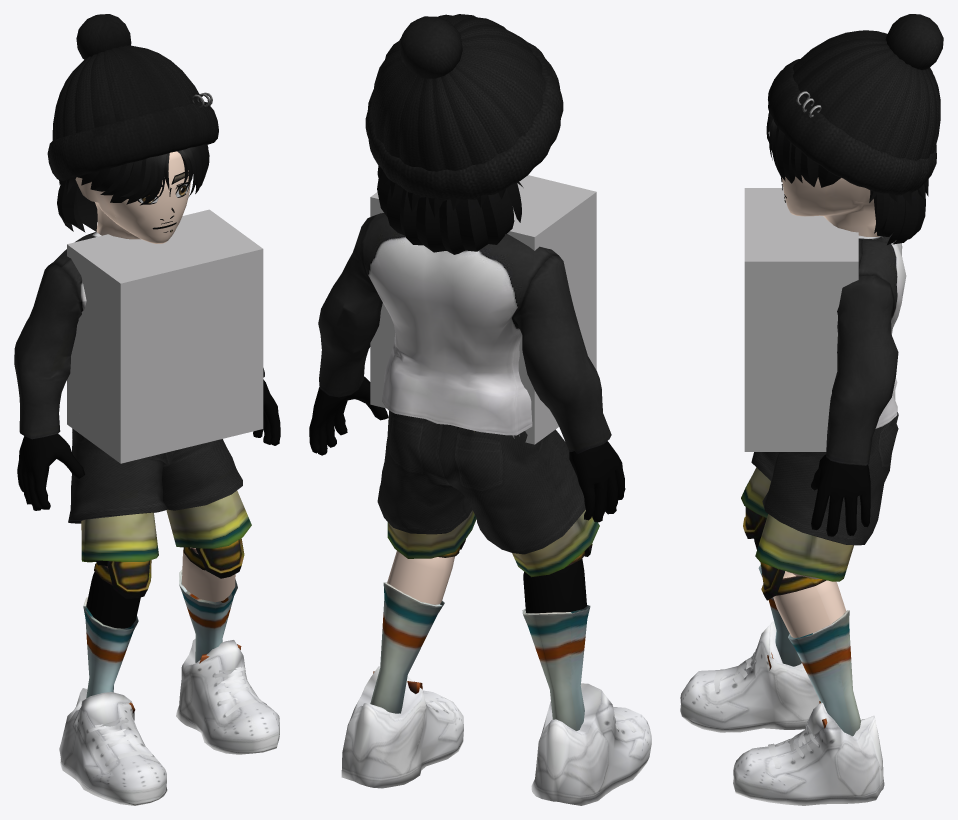
The picture shows the model from 3 angles, left to right: view 1: azimuth 30°, elevation 25°; view 2: azimuth 150°, elevation 25°; view 3: azimuth 270°, elevation 25°; orthographic projection. The views are drawn at different scales.
Parts seen in each view (by area): view 1: UpperTorso3, acc_Beanie, acc_Shorts_Bermuda_Black_9174391966, acc_Shoes_Sneakers_2_White_Right, RightUpperArm2, acc_Shoes_Sneakers_2_White_Left, acc_Hair, RightUpperLeg, RightLowerLeg, Head, LeftUpperLeg, LeftLowerLeg (+3 smaller); view 2: UpperTorso2, acc_Beanie, acc_Shorts_Bermuda_Black_9174391966, UpperTorso3, RightUpperArm2, acc_Shoes_Sneakers_2_White_Right, acc_Shoes_Sneakers_2_White_Left, RightLowerLeg, LeftLowerLeg, acc_Hair, LeftUpperArm2, RightHand (+3 smaller); view 3: UpperTorso3, acc_Beanie, acc_Shoes_Sneakers_2_White_Left, acc_Shoes_Sneakers_2_White_Right, LeftUpperArm2, LeftLowerLeg, acc_Shorts_Bermuda_Black_9174391966, LeftUpperLeg, acc_Hair, UpperTorso2, Head, LeftHand (+2 smaller).
Part boxes in pixels (x1,y1,x2,y2): UpperTorso3: (67,209,263,463); acc_Beanie: (47,14,218,180); acc_Shorts_Bermuda_Black_9174391966: (68,428,242,523); acc_Shoes_Sneakers_2_White_Right: (59,688,167,805); RightUpperArm2: (14,257,80,439); acc_Shoes_Sneakers_2_White_Left: (176,638,279,754); acc_Hair: (57,144,209,232); RightUpperLeg: (81,512,158,598); RightLowerLeg: (83,563,140,698); Head: (75,151,190,243); LeftUpperLeg: (166,490,251,578); LeftLowerLeg: (179,547,237,662); UpperTorso2: (344,213,554,435); acc_Beanie: (365,14,563,201); acc_Shorts_Bermuda_Black_9174391966: (377,410,585,554); UpperTorso3: (370,175,596,444); RightUpperArm2: (522,249,611,453); acc_Shoes_Sneakers_2_White_Right: (531,683,651,805); acc_Shoes_Sneakers_2_White_Left: (341,666,463,788); RightLowerLeg: (522,551,590,730); LeftLowerLeg: (370,546,460,713); acc_Hair: (377,165,523,254); LeftUpperArm2: (318,253,368,397); RightHand: (569,441,625,522); UpperTorso3: (744,188,858,451); acc_Beanie: (768,14,943,195); acc_Shoes_Sneakers_2_White_Left: (733,703,884,805); acc_Shoes_Sneakers_2_White_Right: (680,621,819,732); LeftUpperArm2: (826,290,898,465); LeftLowerLeg: (773,571,860,736); acc_Shorts_Bermuda_Black_9174391966: (751,412,898,545); LeftUpperLeg: (755,514,853,600); acc_Hair: (766,112,928,244); UpperTorso2: (837,233,906,428); Head: (781,175,879,236); LeftHand: (811,454,870,536).
Bounding box in the file's own units: 2.56 × 6.81 × 2.21.
21 materials, 15 textured.
